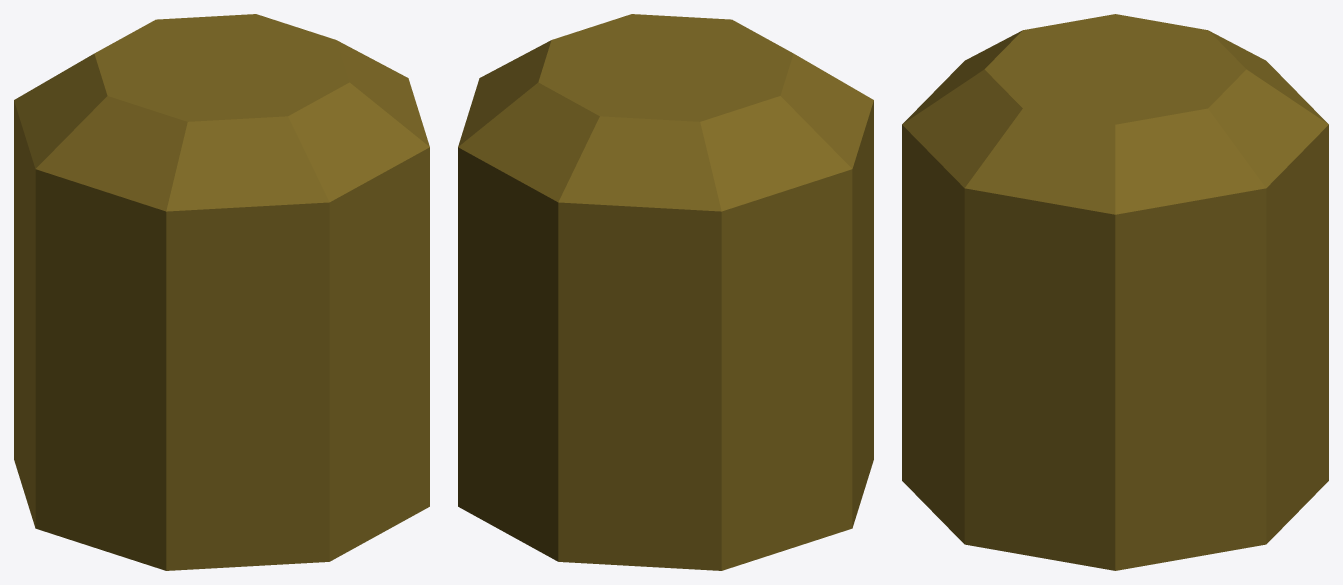
The model's file is thimble01.obj.
3 views of the same model, side by side, from view 1: azimuth 30°, elevation 25°; view 2: azimuth 150°, elevation 25°; view 3: azimuth 270°, elevation 25° (orthographic).
Visible parts, largest first — view 1: Cylinder; view 2: Cylinder; view 3: Cylinder.
Boxes of the visible parts, x1,y1,x2,y2 form: Cylinder: [14, 14, 429, 570]; Cylinder: [458, 14, 873, 570]; Cylinder: [902, 14, 1328, 570].
Bounding box in the file's own units: 0.0229 × 0.0244 × 0.0229.
